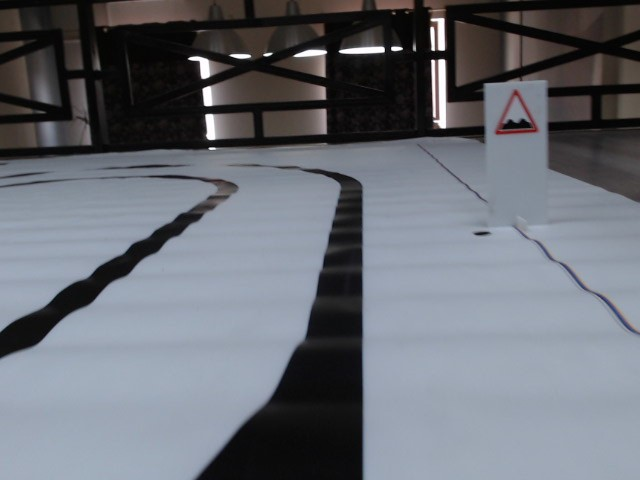Nerov: (495, 89, 539, 138)
